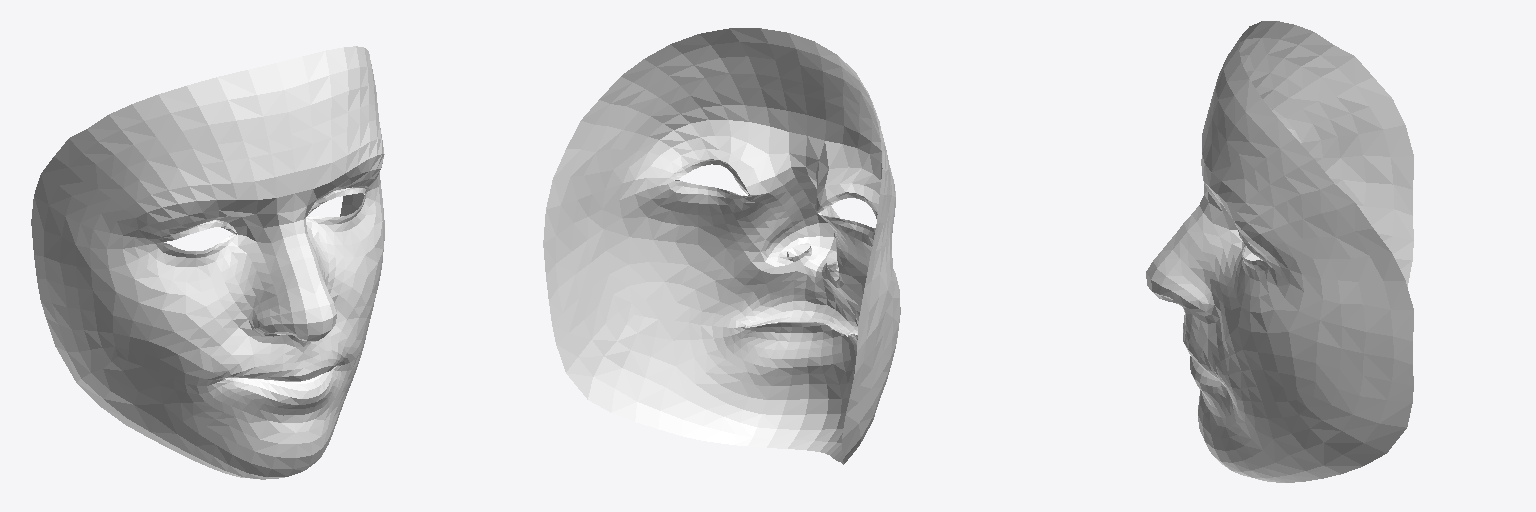
File: mouthPress_R.obj
3 views of the same model, side by side, from view 1: azimuth 30°, elevation 25°; view 2: azimuth 150°, elevation 25°; view 3: azimuth 270°, elevation 25° (orthographic).
Visible parts, largest first — view 1: default; view 2: default; view 3: default.
Boxes of the visible parts, x1=… form: default: x1=31, y1=46, x2=384, y2=479; default: x1=543, y1=28, x2=900, y2=464; default: x1=1146, y1=21, x2=1413, y2=482.
Size of the model in its own units: 0.1447 by 0.1806 by 0.1055.